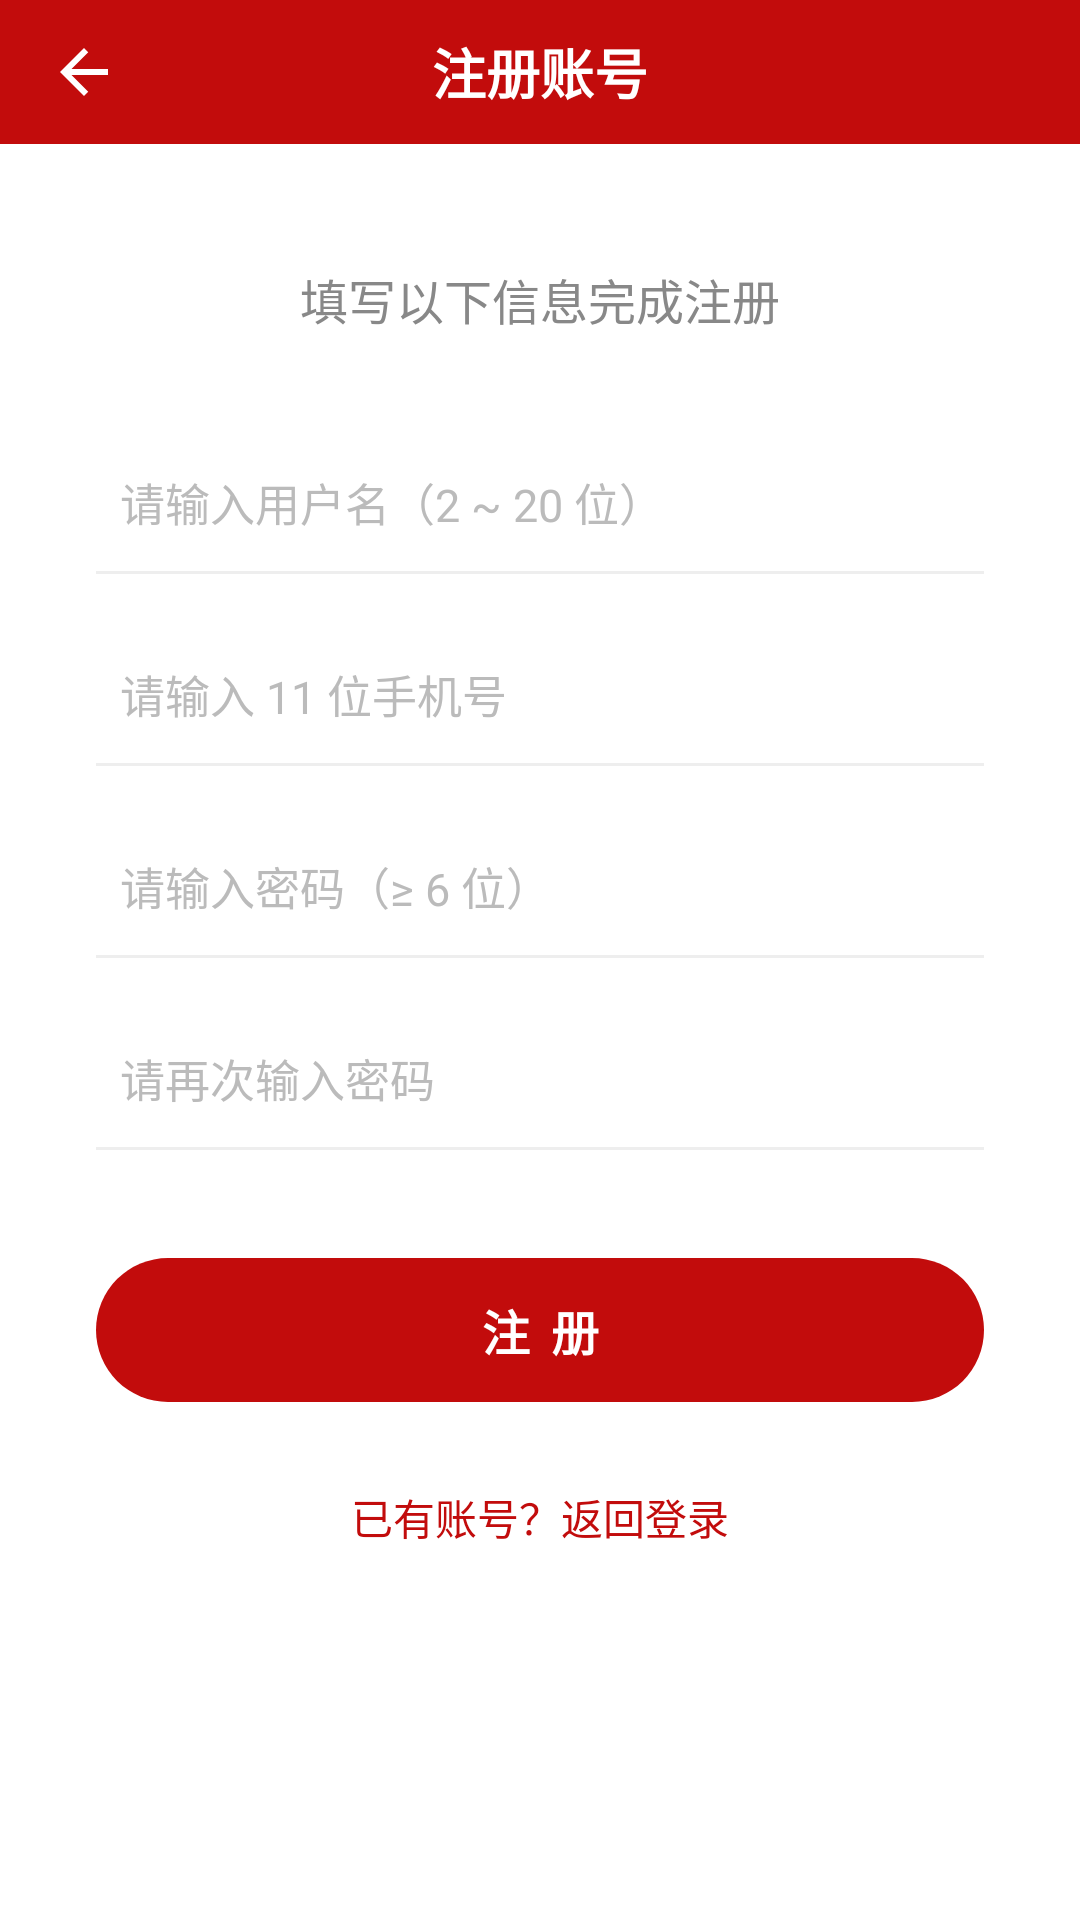

Screen size 1080w x 1920h. Icon name, then its center in pixels as [x,y]:
返回: [84,72]
